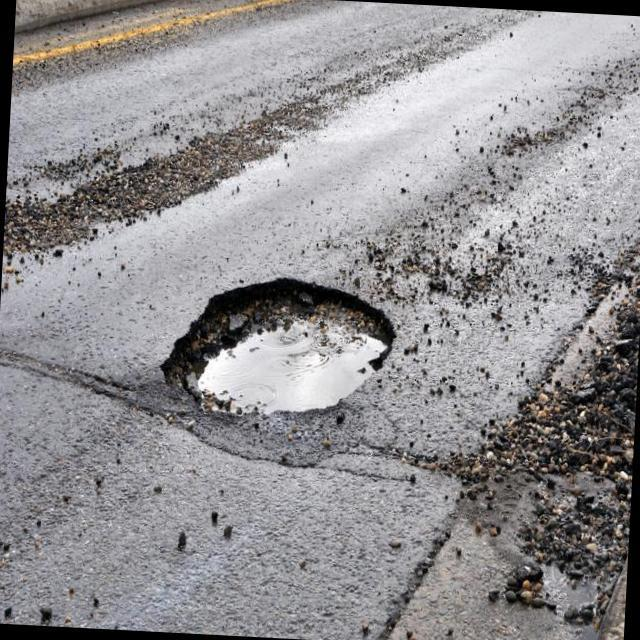Pothole: (163, 278, 397, 415)
